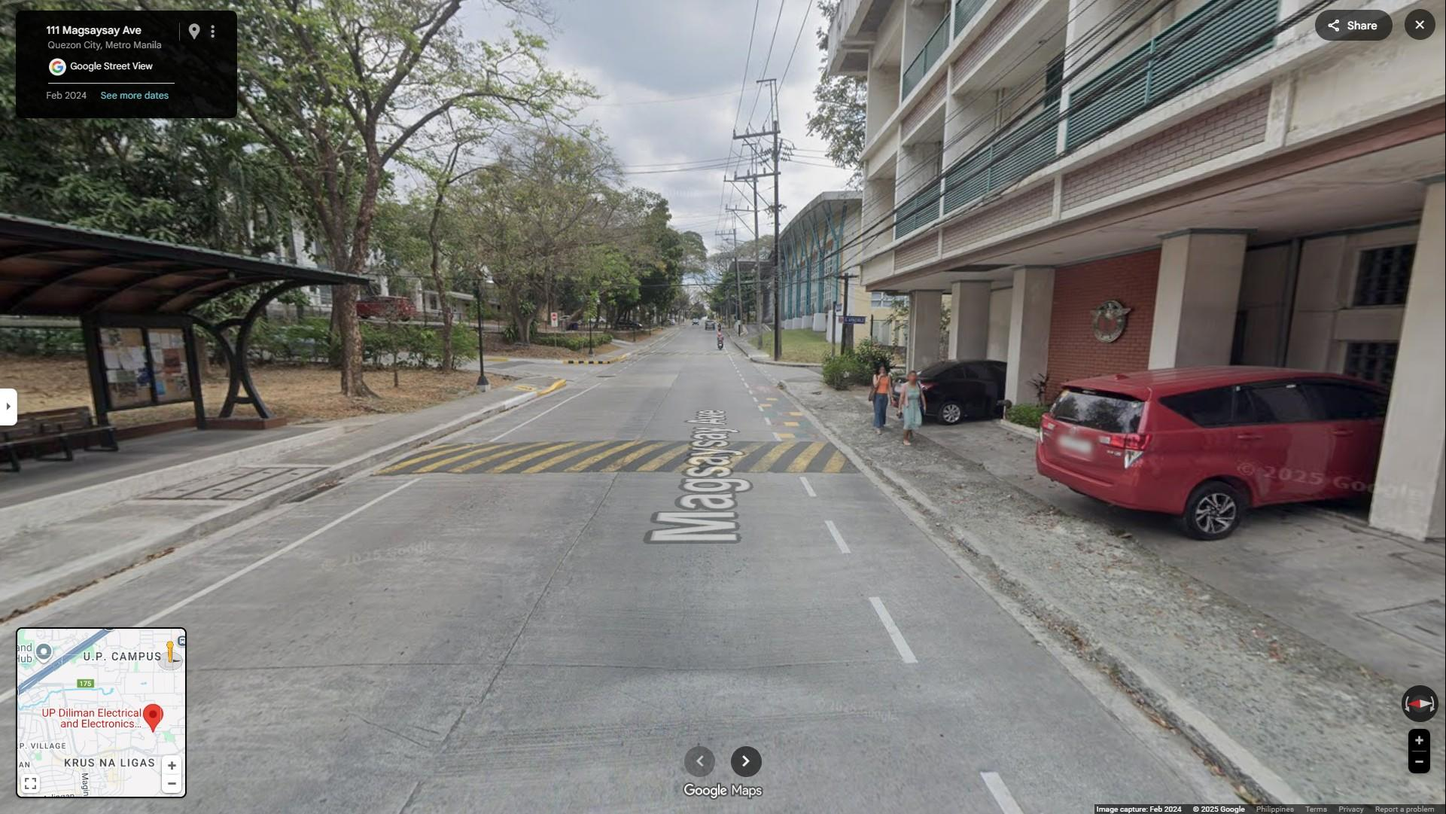pedestrian: (897, 370, 928, 448), (868, 361, 896, 436)
